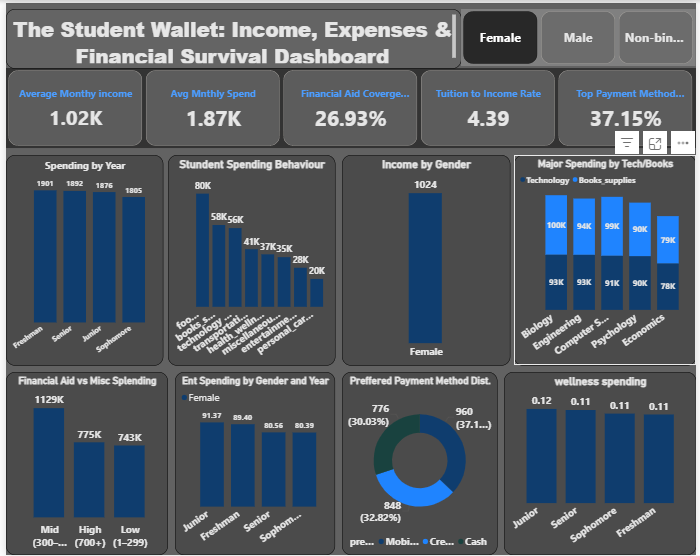

This screenshot's page, from the dashboard's own definition file:
{"tool":"powerbi","page":{"name":"Page 1","canvas":[1500,1200],"ordinal":0},"visuals":[{"type":"cardVisual","fields":{"Data":["KPI.Average Monthy income","KPI.Avg Mnthly Spend","KPI.Financial Aid Coverge Rate","KPI.Tuition to Income Rate","KPI.Top Payment Method Share"]},"box":[0,142,1500,174],"z":0},{"type":"clusteredColumnChart","title":"Spending by Year","fields":{"Y":["KPI.Avg Mnthly Spend"],"Category":["Student_Spending.YEAR IN SCHOOL"]},"box":[0,330,342,458],"z":1000},{"type":"textbox","box":[0,12,990,130],"z":2000},{"type":"columnChart","title":"Stundent Spending Behaviour","fields":{"Category":["Student_Spending.Spending Category"],"Y":["Sum(Student_Spending.Total spent)"]},"box":[352,330,364,458],"z":3000},{"type":"advancedSlicerVisual","fields":{"Values":["Student_Spending.gender"]},"box":[990,12,510,124],"z":4000},{"type":"columnChart","title":"Income by Gender","fields":{"Category":["Student_Spending.gender"],"Y":["KPI.Average Monthy income"]},"box":[730,330,366,458],"z":5000},{"type":"columnChart","title":"Major Spending by Tech/Books","fields":{"Category":["Student_Spending.major"],"Y":["Sum(Student_Spending.technology)","Sum(Student_Spending.books_supplies)"]},"box":[1104,330,396,458],"z":6000},{"type":"columnChart","title":"Financial Aid vs Misc Splending","fields":{"Y":["Sum(Student_Spending.monthly_income)"],"Category":["Student_Spending.Financial Aid Band"]},"box":[0,802,352,398],"z":7000},{"type":"columnChart","title":"Ent Spending by Gender and Year","fields":{"Category":["Student_Spending.year_in_school"],"Y":["KPI.Avg Entertainment"],"Series":["Student_Spending.gender"]},"box":[368,802,348,398],"z":8000},{"type":"donutChart","title":"Preffered Payment Method Dist.","fields":{"Category":["Student_Spending.preferred_payment_method"],"Y":["KPI.Student Count"]},"box":[730,802,338,398],"z":9000},{"type":"columnChart","title":"wellness spending","fields":{"Category":["Student_Spending.year_in_school"],"Y":["KPI.Health Wellness Ratio"]},"box":[1082,802,418,398],"z":10000}]}

Visuals, with their boxes in screenshot pixels (x1, y1, x2, y2), scaled from the page's 1500x1200 canvas onto the 700x556 screenshot:
cardVisual - KPI.Average Monthy income x KPI.Avg Mnthly Spend: [0,66,699,146]
"Spending by Year" clusteredColumnChart: [0,153,160,365]
textbox: [0,6,462,66]
"Stundent Spending Behaviour" columnChart: [164,153,334,365]
advancedSlicerVisual - Student_Spending.gender: [462,6,699,63]
"Income by Gender" columnChart: [341,153,511,365]
"Major Spending by Tech/Books" columnChart: [515,153,699,365]
"Financial Aid vs Misc Splending" columnChart: [0,372,164,555]
"Ent Spending by Gender and Year" columnChart: [172,372,334,555]
"Preffered Payment Method Dist." donutChart: [341,372,498,555]
"wellness spending" columnChart: [505,372,699,555]
